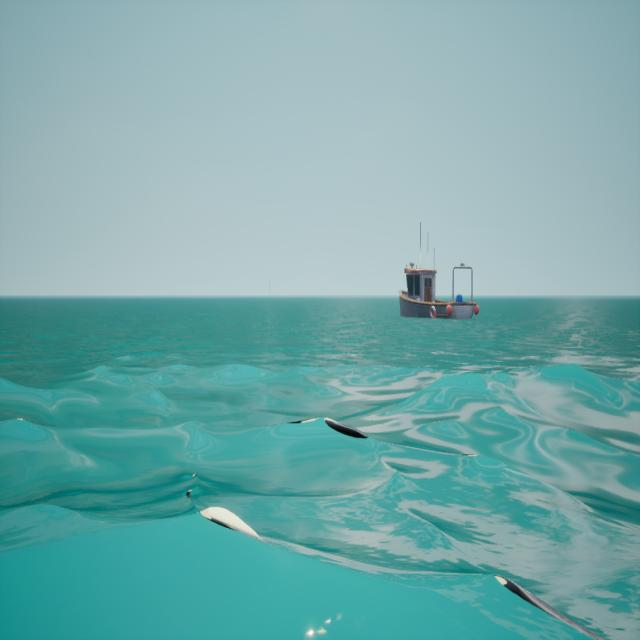ship: (395, 217, 484, 340)
